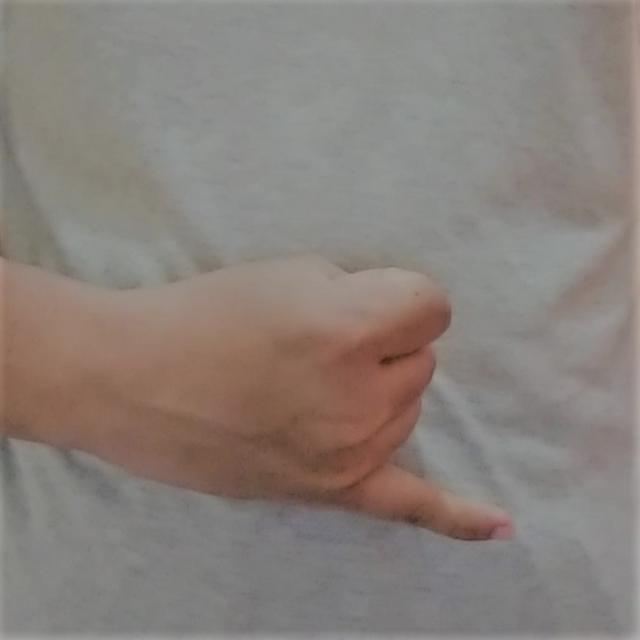J: (61, 240, 524, 554)
